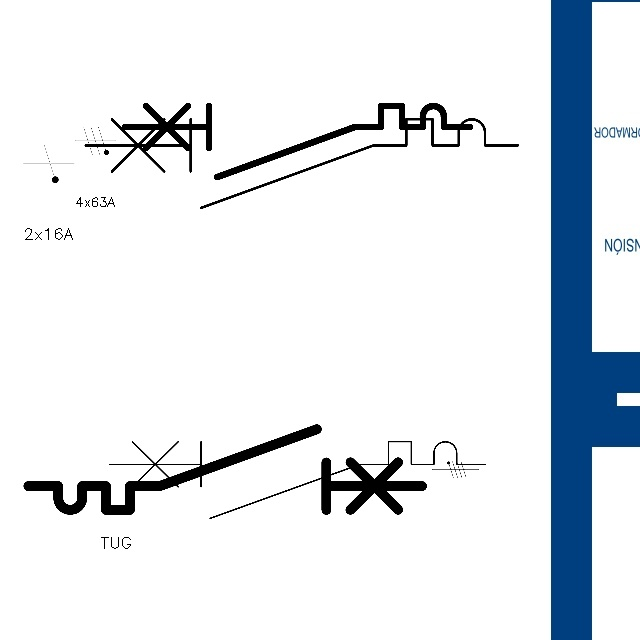interruptor_termomagnetico: (74, 108, 528, 219), (18, 419, 432, 520), (100, 432, 495, 528), (116, 97, 479, 186)
